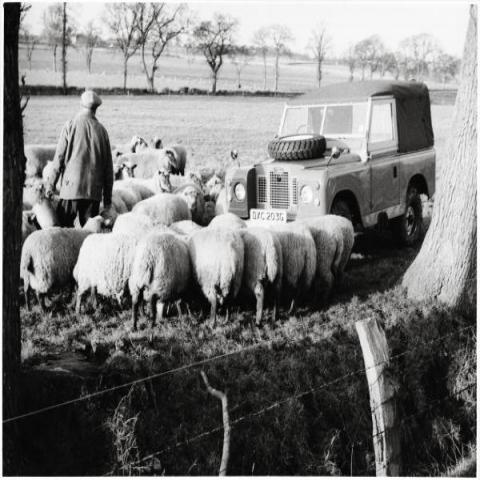truck: (227, 80, 436, 245)
